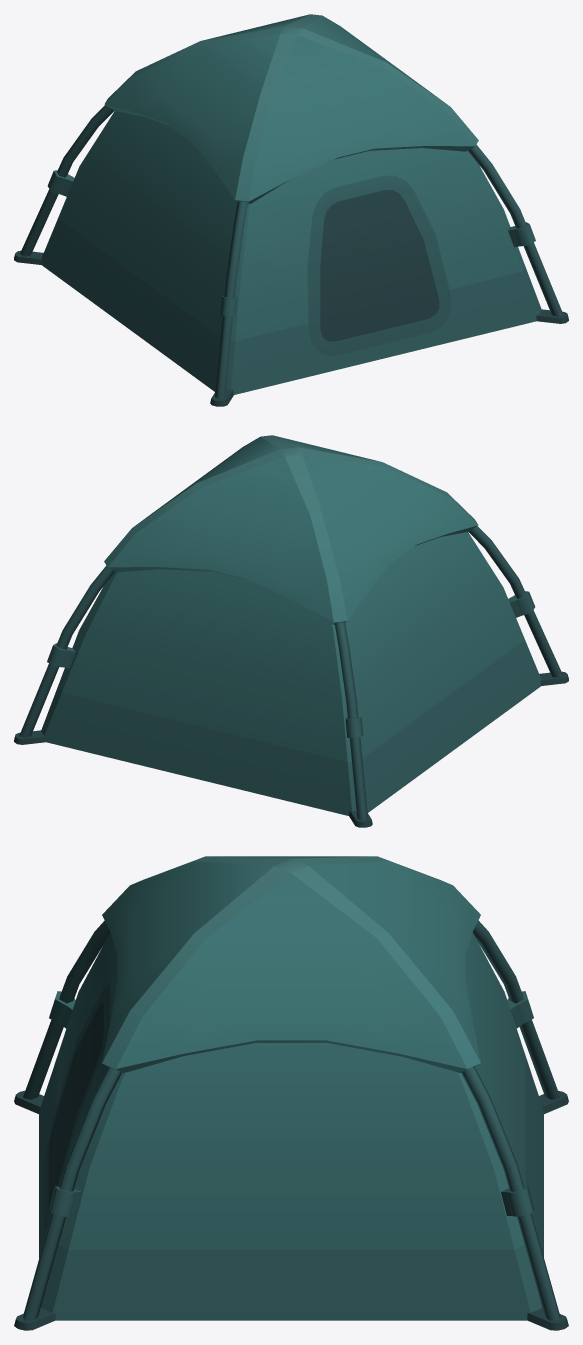
File: SM_Tent_D.fbx
3 renders of one model, top to bottom at view 1: azimuth 30°, elevation 25°; view 2: azimuth 150°, elevation 25°; view 3: azimuth 270°, elevation 25°, orthographic. The views are drawn at different scales.
Parts seen in each view (by area): view 1: SM_Tent_D; view 2: SM_Tent_D; view 3: SM_Tent_D.
Boxes of the visible parts, left/top/right/bottom form: SM_Tent_D: left=14, top=14, right=568, bottom=406; SM_Tent_D: left=14, top=435, right=568, bottom=827; SM_Tent_D: left=14, top=856, right=568, bottom=1330.
Size of the model in its own units: 252 by 175 by 253.
